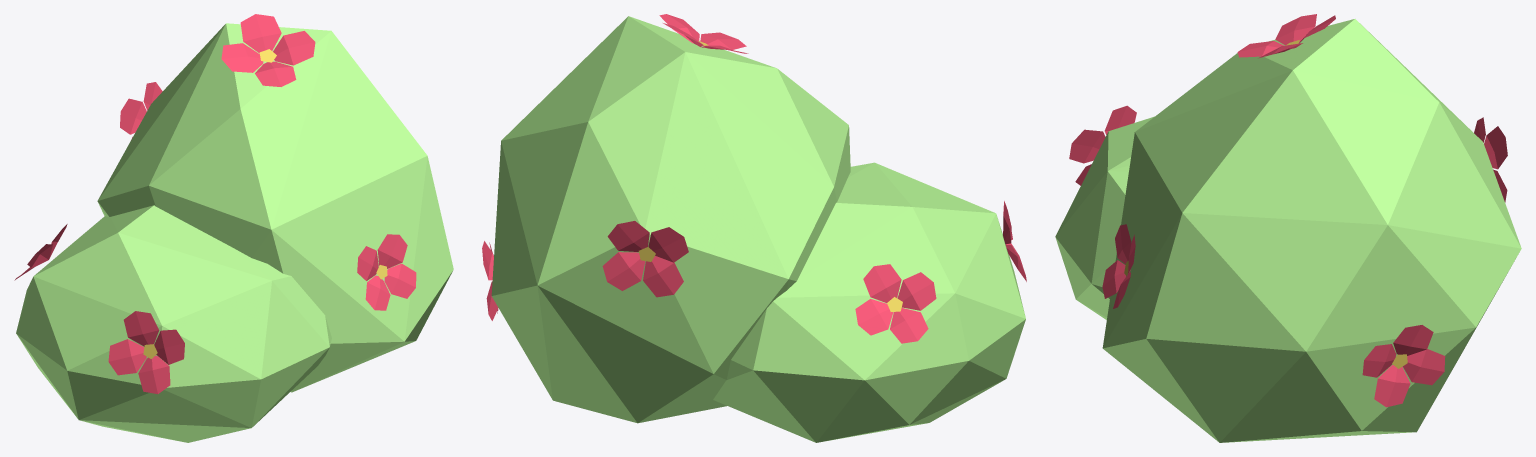
File: FlowerBush_d_m_01.fbx
3 renders of one model, left to right at view 1: azimuth 30°, elevation 25°; view 2: azimuth 150°, elevation 25°; view 3: azimuth 270°, elevation 25°, orthographic. The views are drawn at different scales.
Visible parts, largest first — view 1: FlowerBush_d_m_01; view 2: FlowerBush_d_m_01; view 3: FlowerBush_d_m_01.
Boxes of the visible parts, x1=… form: FlowerBush_d_m_01: x1=14, y1=14, x2=453, y2=442; FlowerBush_d_m_01: x1=482, y1=14, x2=1026, y2=442; FlowerBush_d_m_01: x1=1055, y1=14, x2=1521, y2=442.
Bounding box in the file's own units: 179 × 147 × 151.
